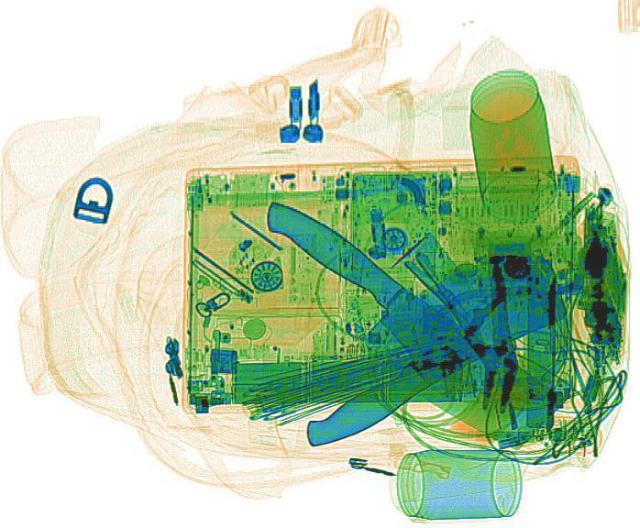Knife: (212, 190, 558, 441), (251, 239, 575, 453)
